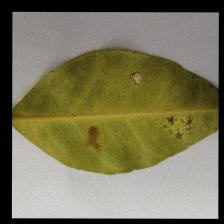canker: (70, 58, 200, 160)
